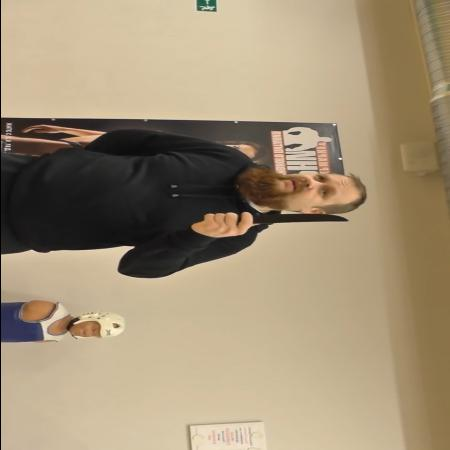long weapon: (203, 208, 352, 233)
